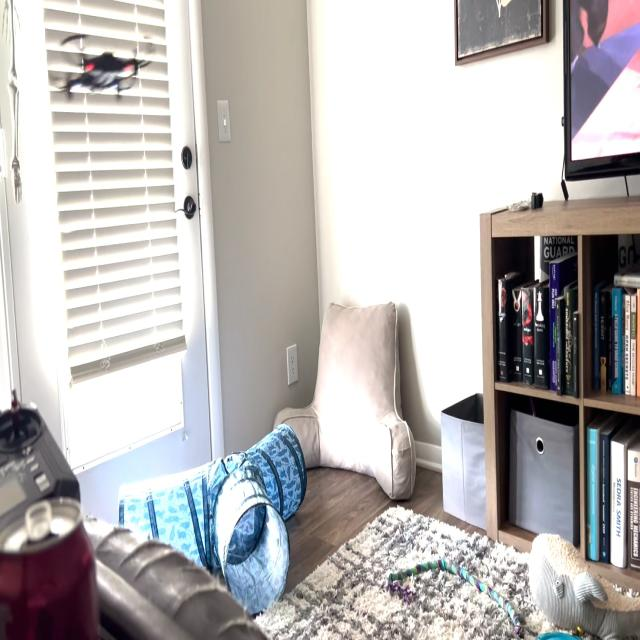drone: (50, 11, 157, 115)
